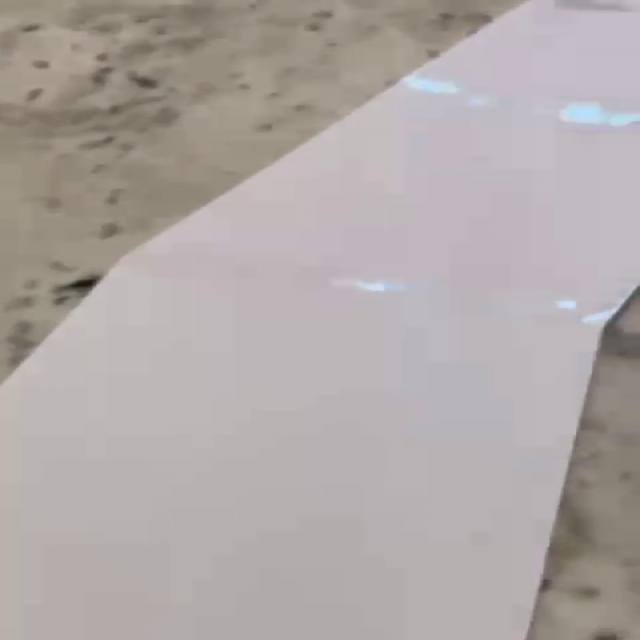road: (0, 0, 640, 640)
